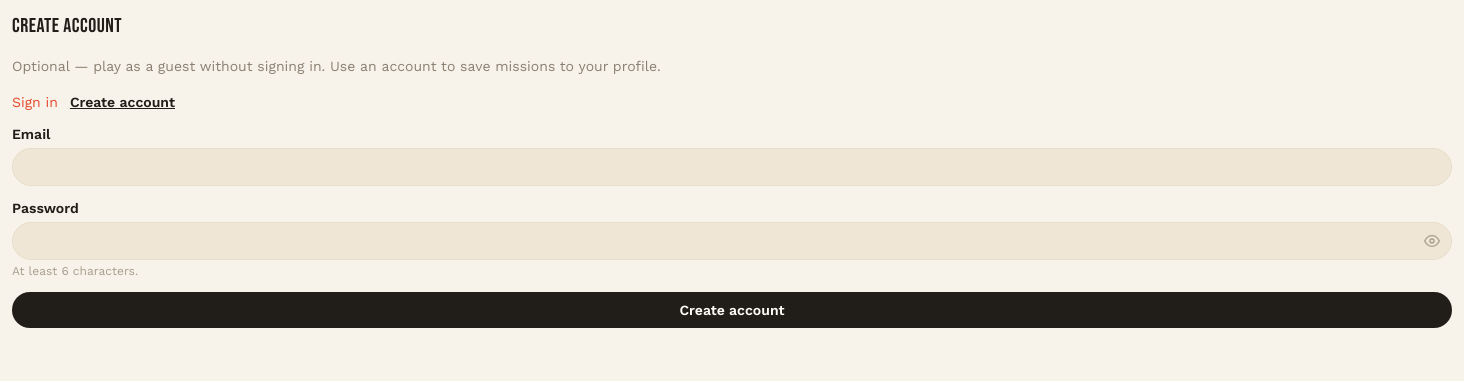
AuthForm › switches to sign-in after a duplicate create-account error
The width and height of the screenshot is (1464, 381).
In the field labelled "Email": (732, 167) [12,148,1452,186], type "athlete@example.com"
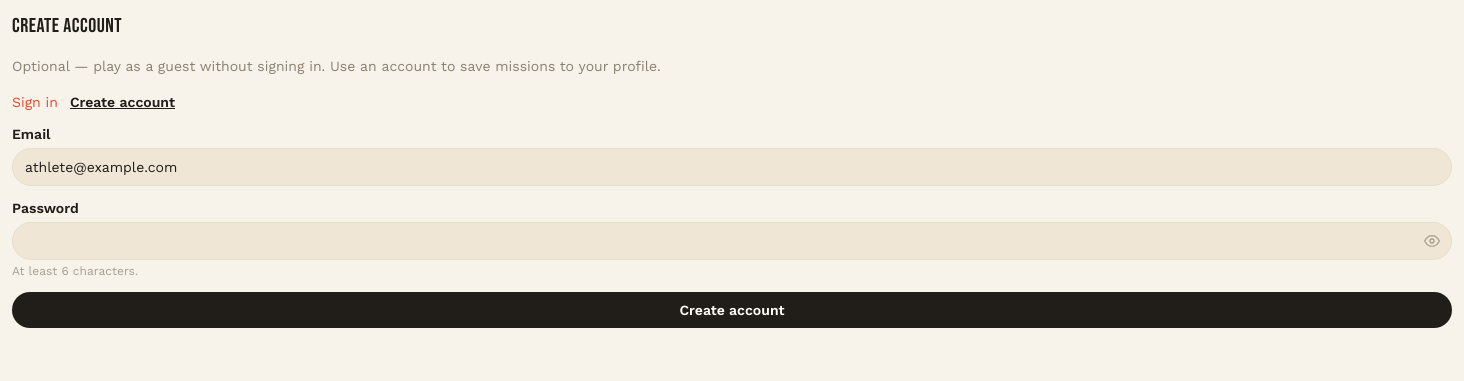
In the password field labelled "Password At least 6 characters.": (732, 241) [12,222,1452,260], type "secret1"
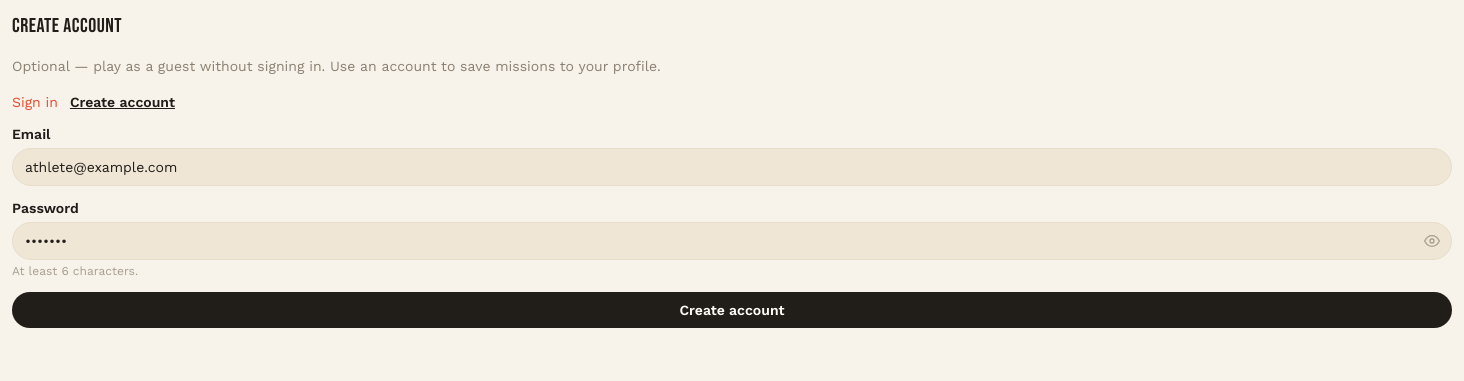
Click the 2nd button "Create account": click(732, 310) [12,292,1452,328]
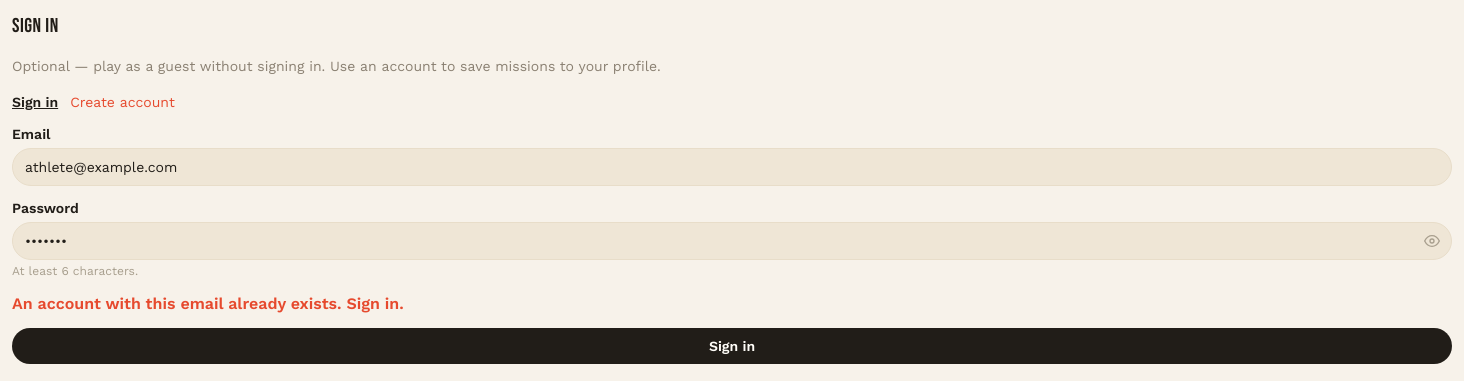
Expected: the text "An account with this email already exists. Sign in." is shown, [12,294,404,313]
Expected: the heading "Sign in" is shown, [12,12,59,40]
